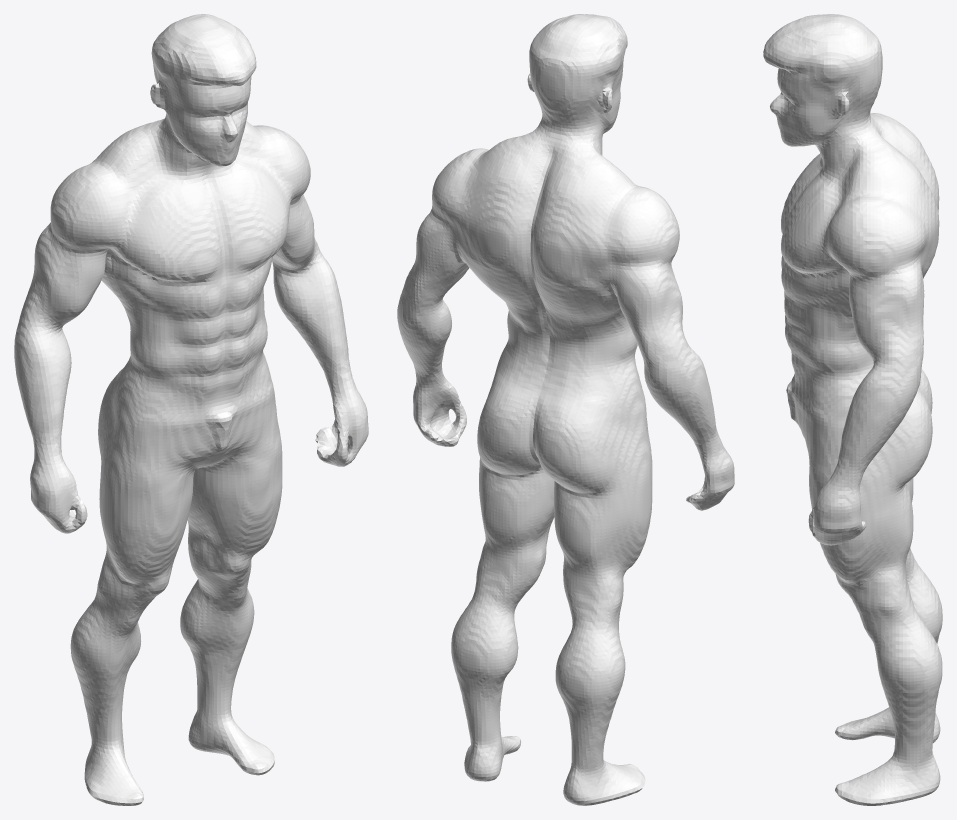
Rendered from a_Brazilian_man.glb.
The picture shows the model from 3 angles, left to right: view 1: azimuth 30°, elevation 25°; view 2: azimuth 150°, elevation 25°; view 3: azimuth 270°, elevation 25°; orthographic projection. The views are drawn at different scales.
Size of the model in its own units: 0.7962 by 1.79 by 0.3883.
1 material, 1 textured.
